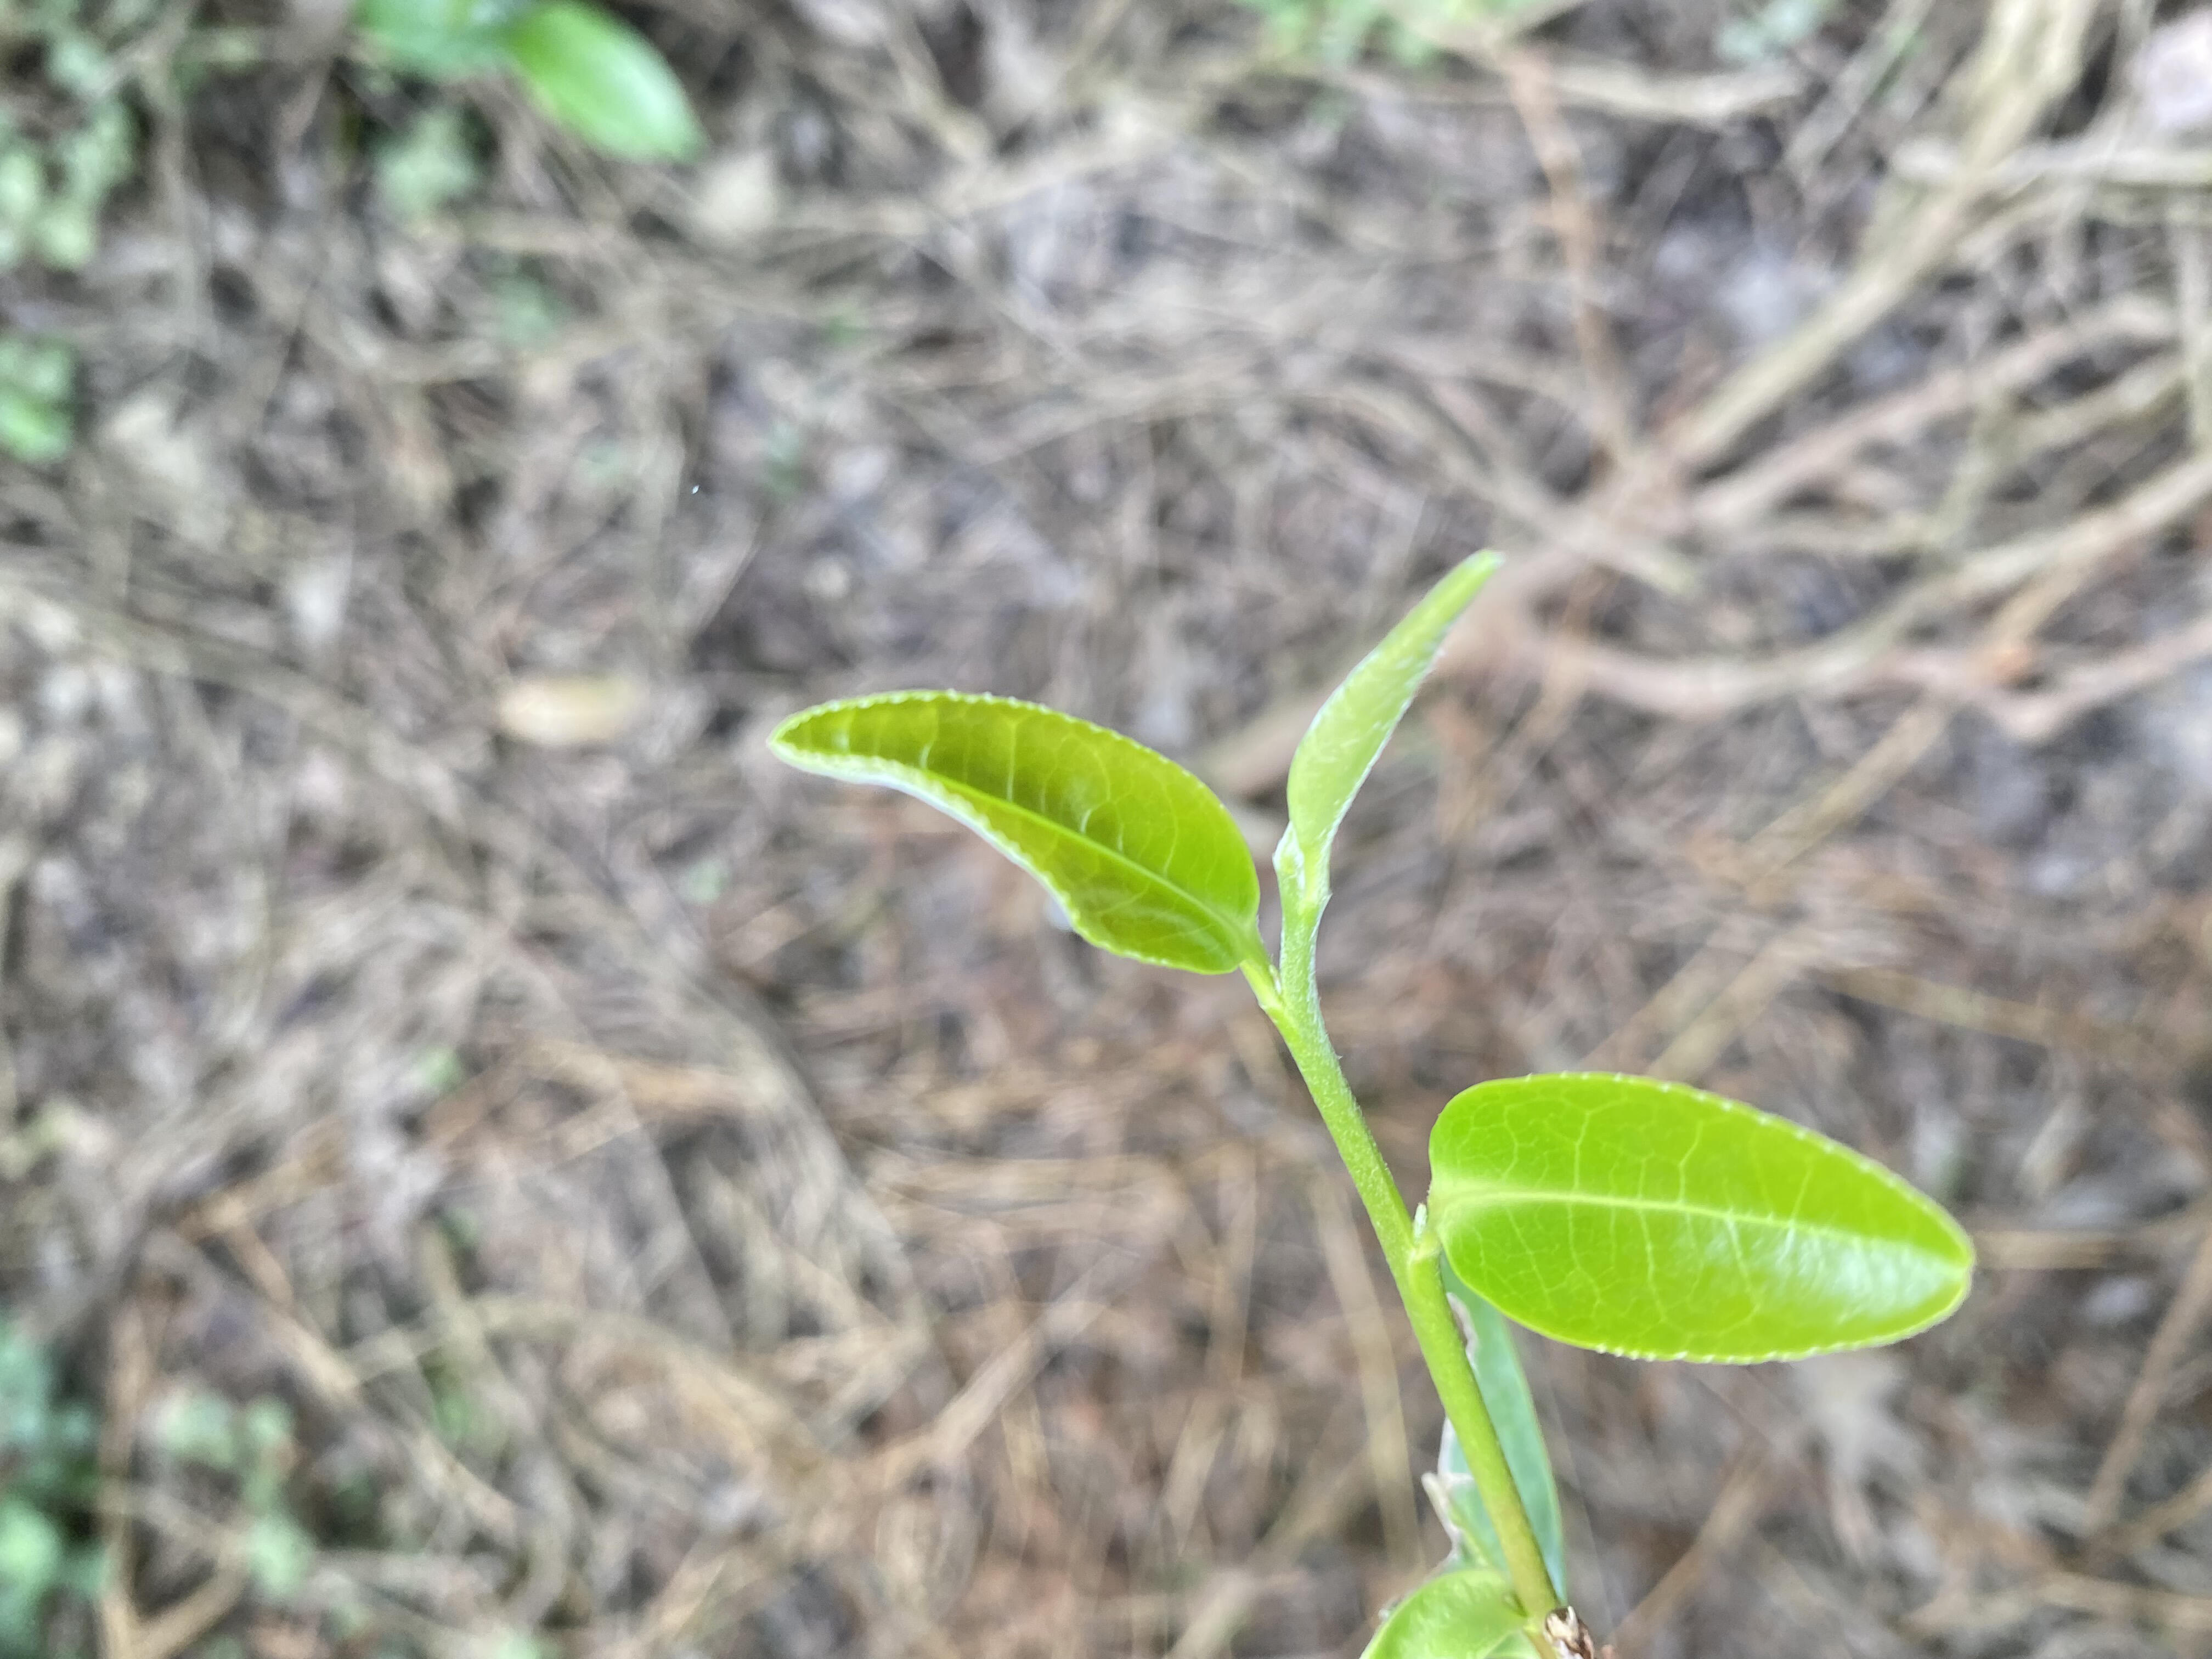healthy: (1426, 1072, 1973, 1368), (763, 690, 1261, 976)
